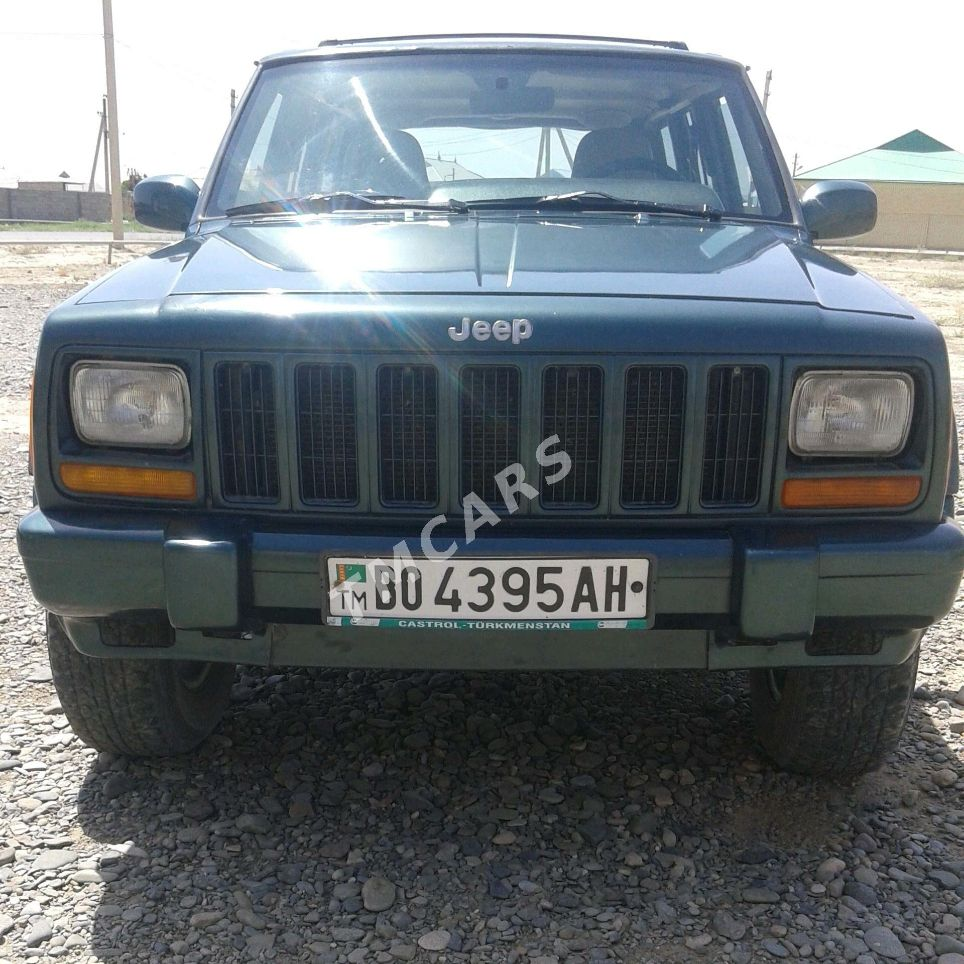license plate: (323, 558, 654, 633)
truck: (27, 41, 948, 779)
